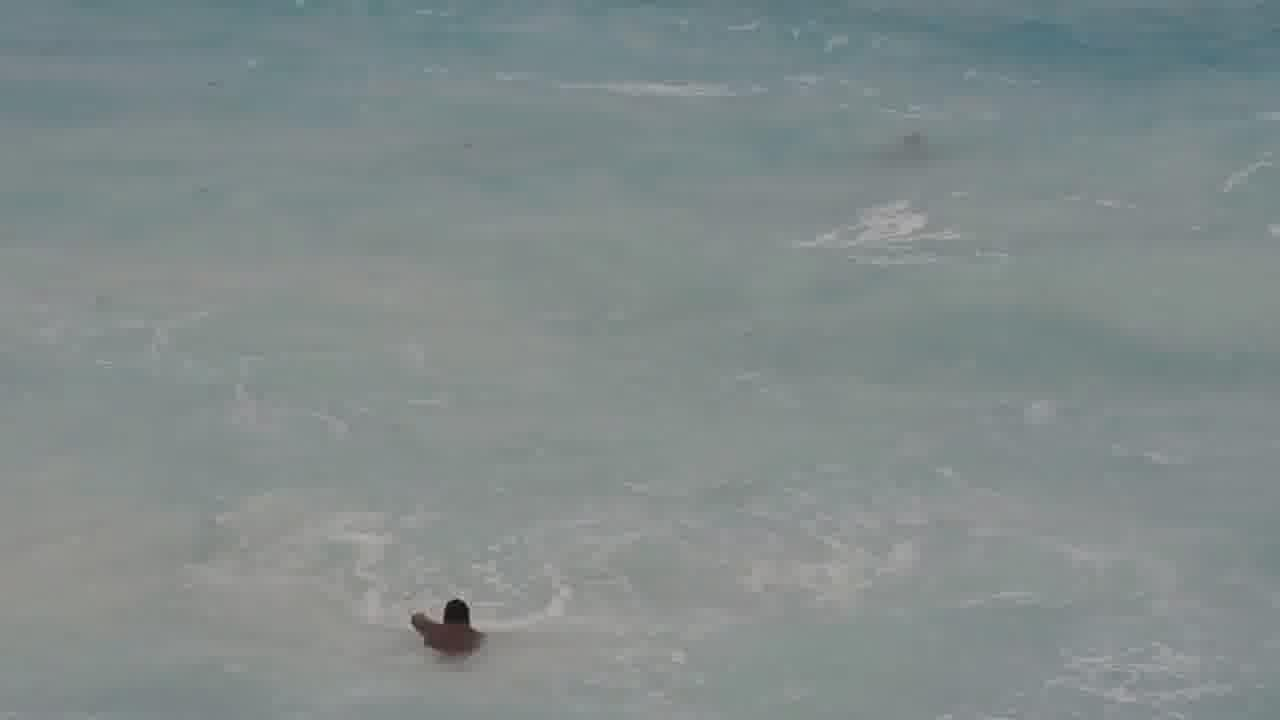swimmer: (387, 584, 495, 661)
